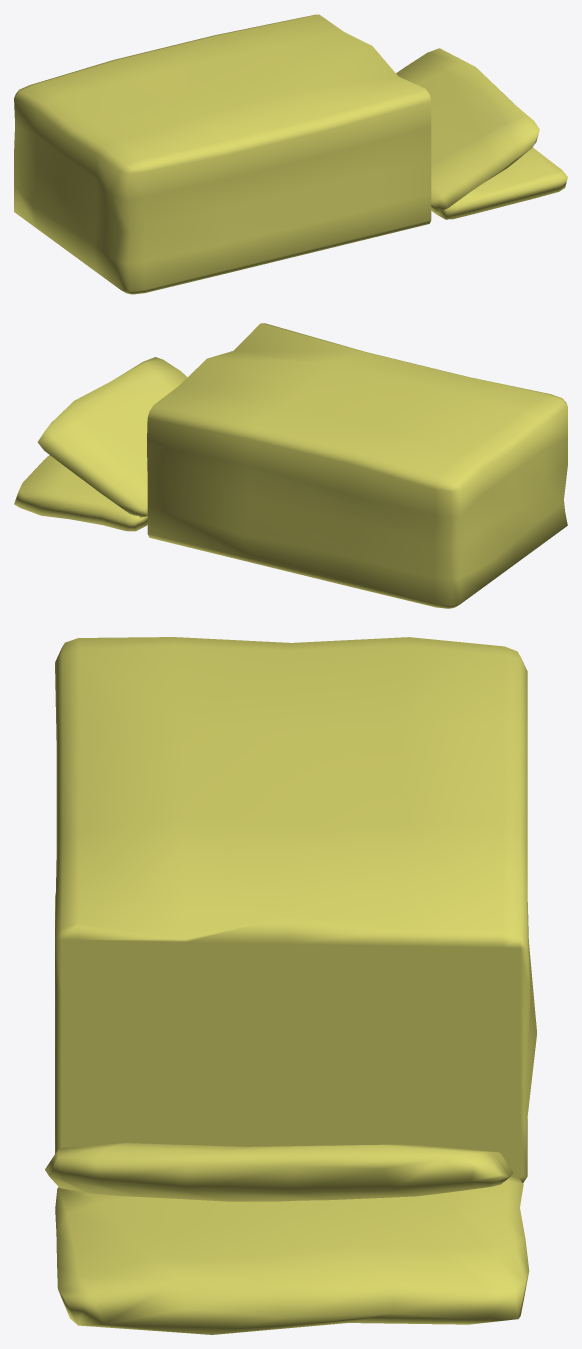
File: Brunch-Butter-Sliced.fbx
The picture shows the model from 3 angles, top to bottom: view 1: azimuth 30°, elevation 25°; view 2: azimuth 150°, elevation 25°; view 3: azimuth 270°, elevation 25°; orthographic projection. The views are drawn at different scales.
Parts seen in each view (by area): view 1: Brunch-Butter-Sliced; view 2: Brunch-Butter-Sliced; view 3: Brunch-Butter-Sliced.
Boxes of the visible parts, x1,y1,x2,y2 form: Brunch-Butter-Sliced: [14, 14, 567, 294]; Brunch-Butter-Sliced: [14, 323, 567, 608]; Brunch-Butter-Sliced: [45, 637, 536, 1334].
Bounding box in the file's own units: 1347 × 400 × 625.
